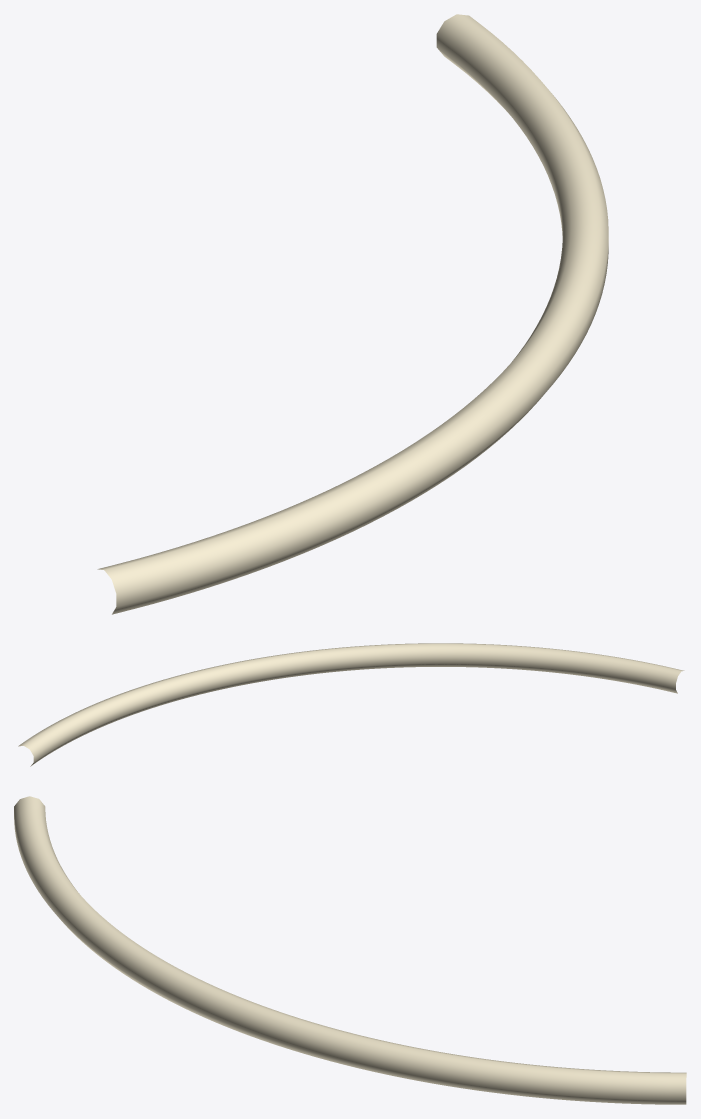
The model's file is cricket-ground-and-pavilion-boundary-rope-curved-bf39a851__31332.glb.
The picture shows the model from 3 angles, top to bottom: view 1: azimuth 30°, elevation 25°; view 2: azimuth 150°, elevation 25°; view 3: azimuth 270°, elevation 25°; orthographic projection. The views are drawn at different scales.
Parts seen in each view (by area): view 1: boundary-rope-curved; view 2: boundary-rope-curved; view 3: boundary-rope-curved.
Part boxes in pixels (left/top/right/bottom): boundary-rope-curved: left=97, top=14, right=608, bottom=614; boundary-rope-curved: left=18, top=643, right=684, bottom=766; boundary-rope-curved: left=14, top=796, right=686, bottom=1104.
Size of the model in its own units: 1.02 by 0.05 by 1.02.
